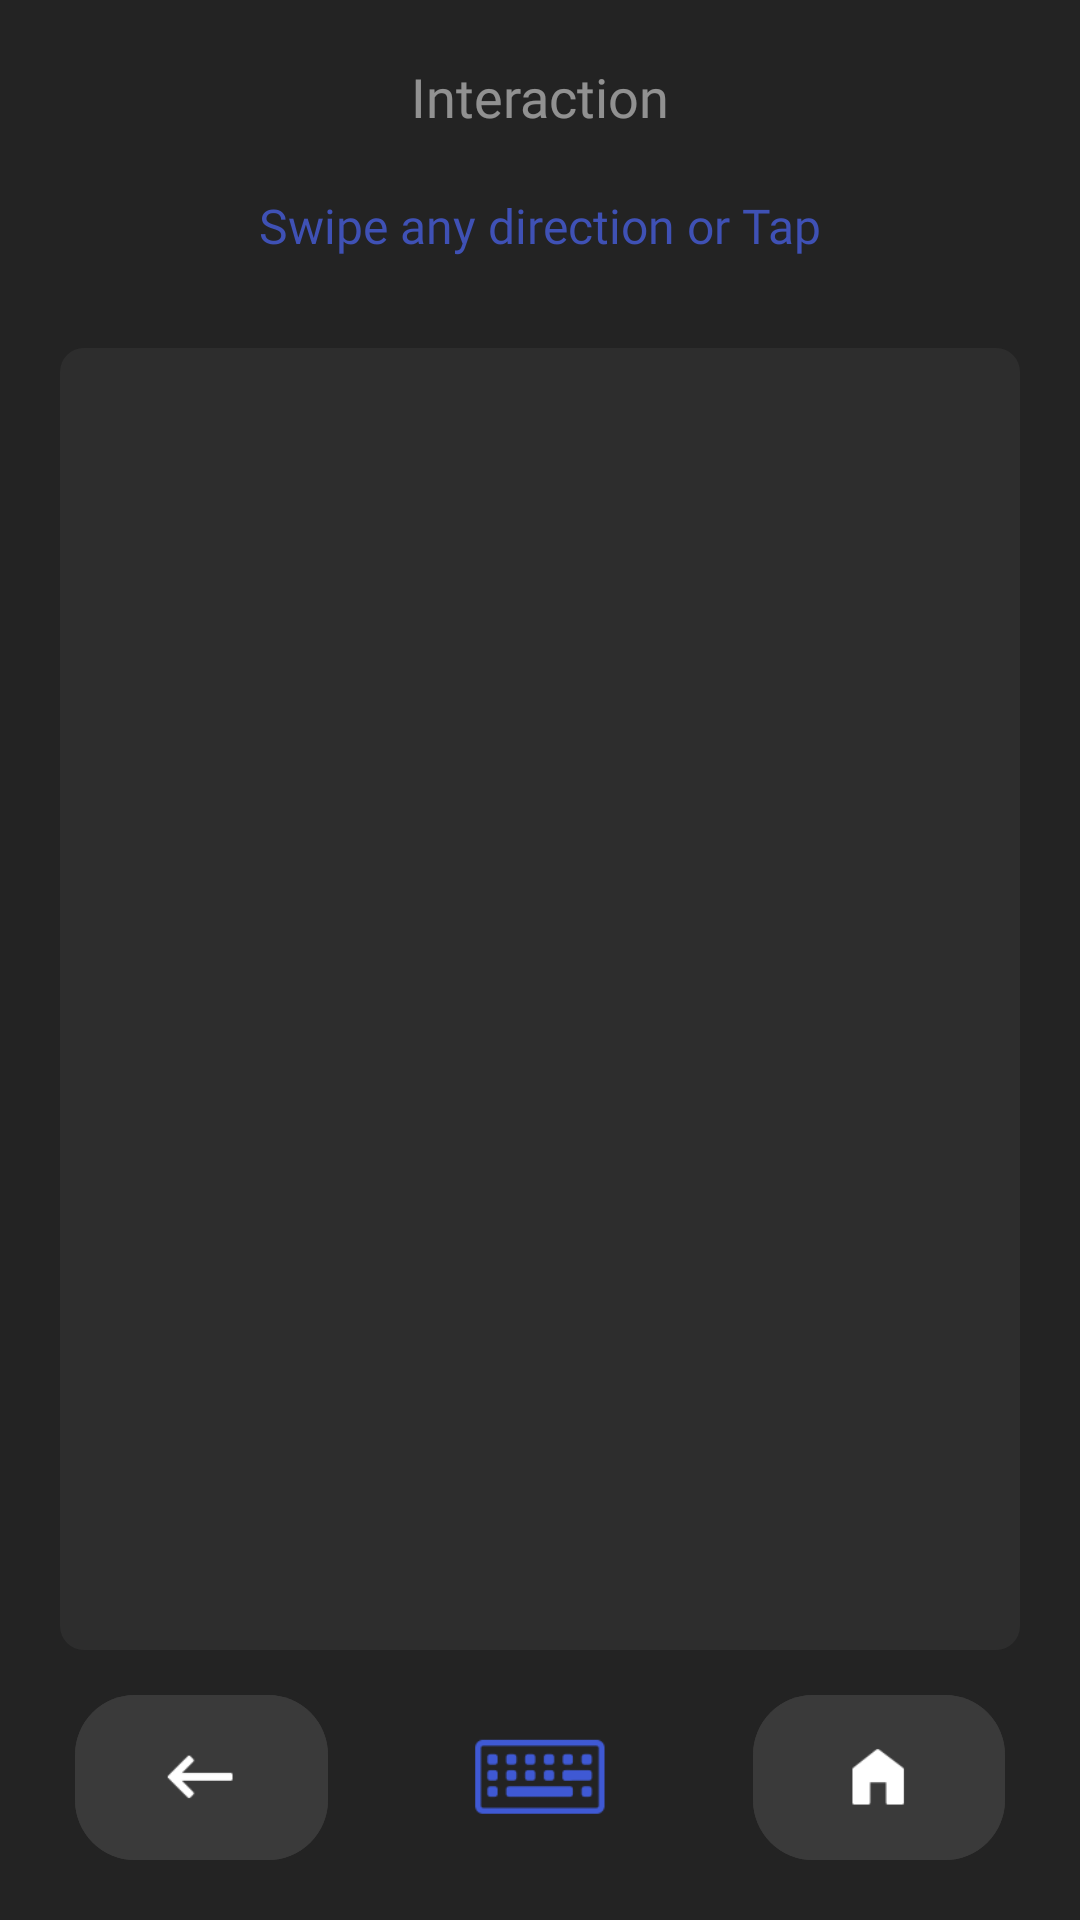

Icon bounding boxes for this 1080*1920 phone screenshot, format {"left": x1, "top": y1, "right": x2, "bottom": y2}:
interaction keyboard: {"left": 475, "top": 1739, "right": 605, "bottom": 1814}
remote back: {"left": 75, "top": 1695, "right": 328, "bottom": 1860}
remote home: {"left": 852, "top": 1748, "right": 905, "bottom": 1805}
